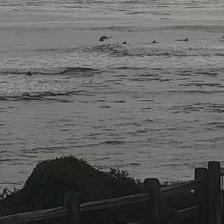surfer: (176, 37, 188, 41), (117, 40, 127, 44), (100, 35, 109, 39), (26, 71, 32, 76), (99, 38, 105, 42), (152, 40, 158, 44), (222, 36, 223, 40)
